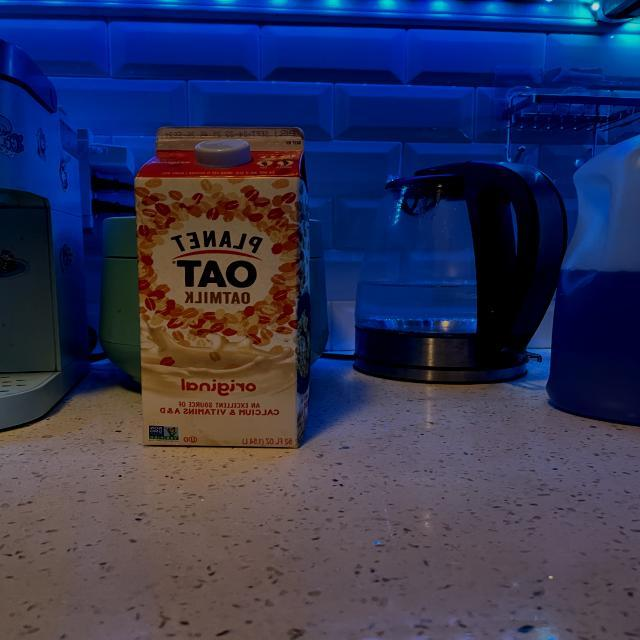Planet Oat Original: (128, 118, 319, 450)
